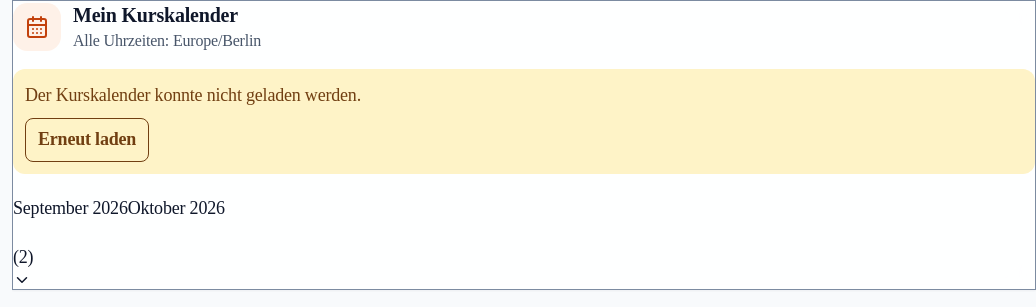
it: refreshes only after a persisted booking revision changes and presents refresh errors with retry
Expected: the message shows "Der Kurskalender konnte nicht geladen werden.", [25,85,361,105]
Click the button "Erneut laden". click: click(87, 140)
box: [25,118,149,162]
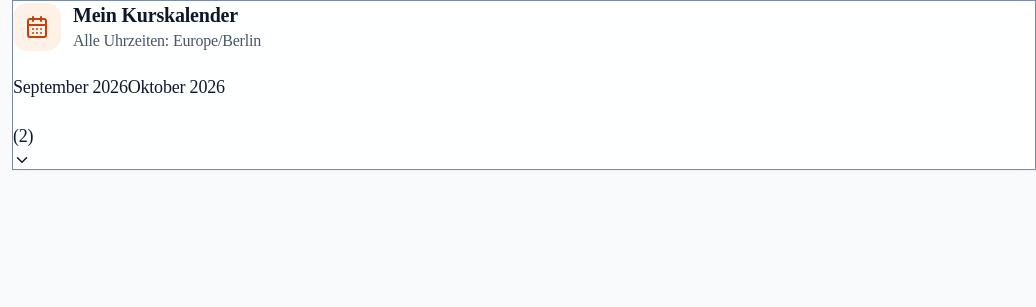
Result: the message "Der Kurskalender konnte nicht geladen werden. Erneut laden" is gone
